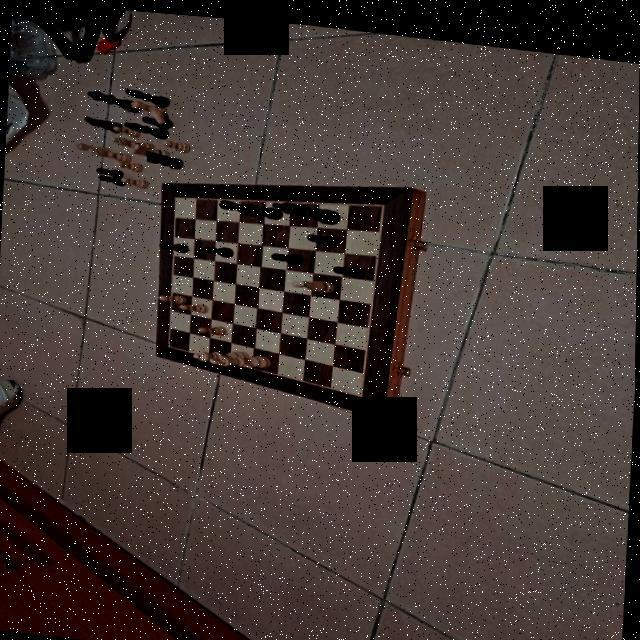chess-table-corners: (356, 384, 366, 393), (376, 194, 386, 203), (171, 192, 180, 198), (166, 340, 172, 346)
